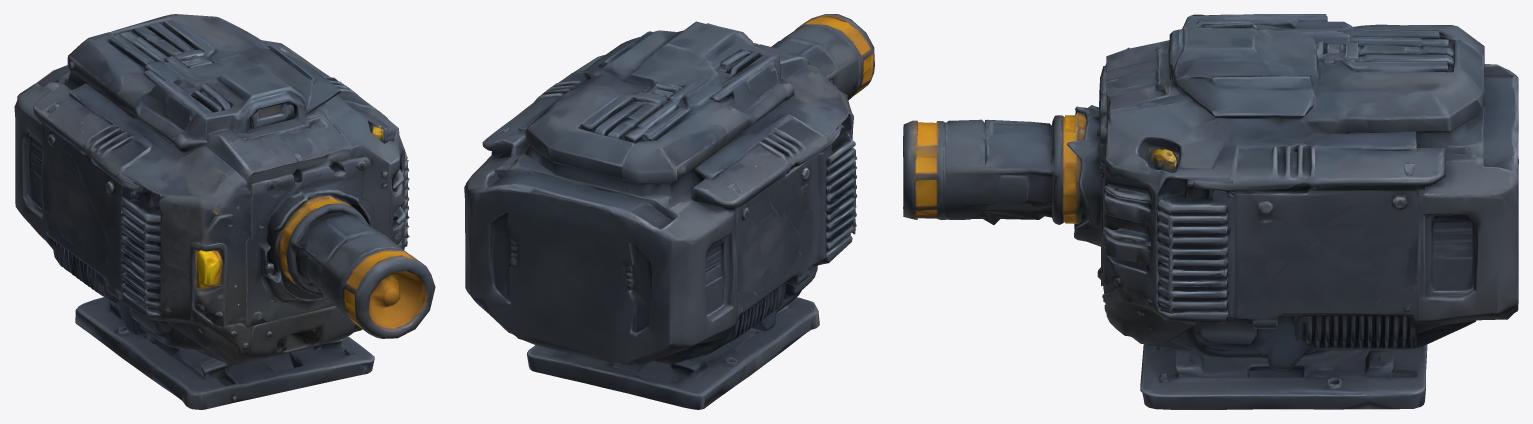
File: tripo_convert_04d98147-191a-481c-a9fd-032daf90eb65.fbx
3 views of the same model, side by side, from view 1: azimuth 30°, elevation 25°; view 2: azimuth 150°, elevation 25°; view 3: azimuth 270°, elevation 25° (orthographic). The views are drawn at different scales.
Visible parts, largest first — view 1: tripo_node_04d98147; view 2: tripo_node_04d98147; view 3: tripo_node_04d98147.
Part boxes in pixels (x1=…): tripo_node_04d98147: x1=14, y1=14, x2=435, y2=409; tripo_node_04d98147: x1=464, y1=14, x2=874, y2=409; tripo_node_04d98147: x1=903, y1=14, x2=1518, y2=409.
Size of the model in its own units: 0.5489 by 0.5699 by 0.9789.
1 material, 1 textured.
